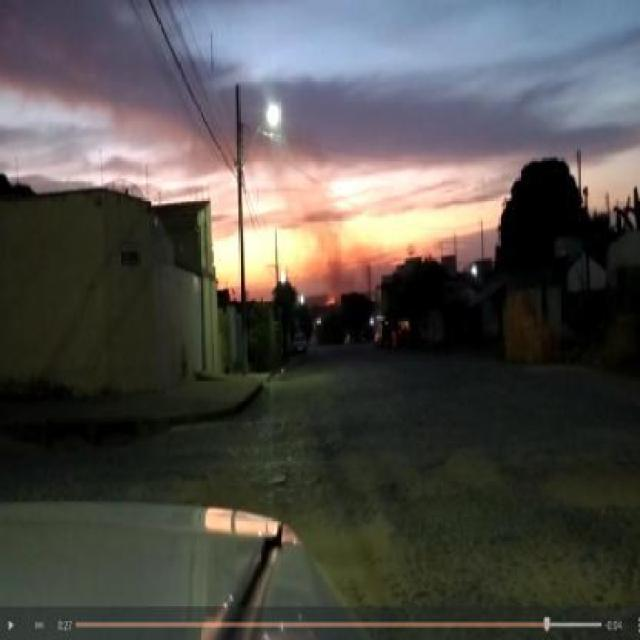Fire: (324, 294, 336, 308)
